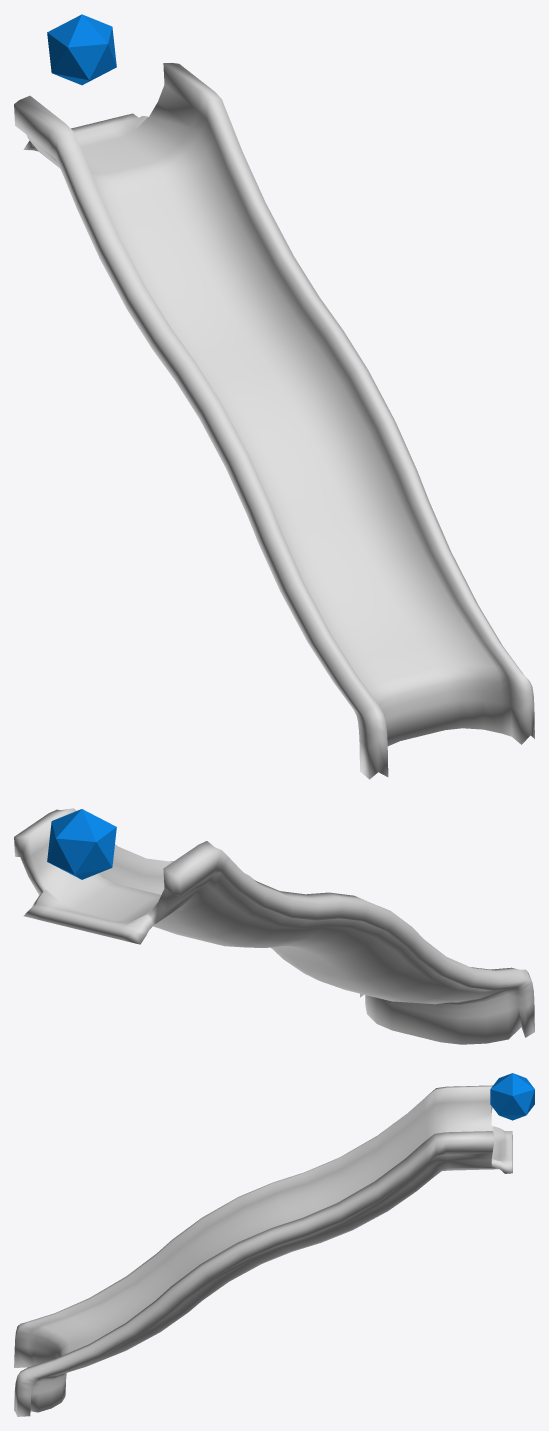
Rendered from 10 wave slide.glb.
3 views of the same model, one above another, from view 1: azimuth 30°, elevation 25°; view 2: azimuth 150°, elevation 25°; view 3: azimuth 270°, elevation 25° (orthographic). The views are drawn at different scales.
Parts seen in each view (by area): view 1: Plane.034, Joint.008; view 2: Plane.034, Joint.008; view 3: Plane.034, Joint.008.
Boxes of the visible parts, x1=… form: Plane.034: x1=14, y1=63, x2=534, y2=779; Joint.008: x1=47, y1=14, x2=116, y2=85; Plane.034: x1=14, y1=808, x2=534, y2=1044; Joint.008: x1=47, y1=809, x2=116, y2=879; Plane.034: x1=14, y1=1085, x2=512, y2=1416; Joint.008: x1=490, y1=1073, x2=534, y2=1120.
Bounding box in the file's own units: 0.7421 × 2.03 × 3.03.
